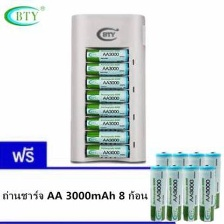battery: (146, 162, 171, 222), (185, 148, 206, 211), (169, 148, 189, 210), (180, 163, 201, 222), (200, 149, 220, 210), (197, 162, 216, 222), (154, 150, 173, 210), (165, 163, 184, 221), (82, 127, 131, 146), (83, 116, 131, 134), (84, 73, 131, 91), (83, 143, 132, 160), (83, 88, 131, 105), (83, 47, 130, 64), (83, 102, 130, 118), (83, 62, 131, 77)
